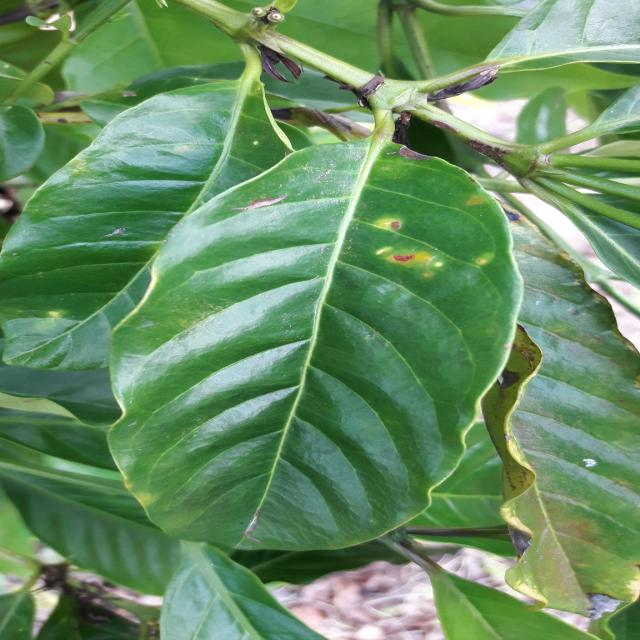Enfermedad-Roya: (106, 140, 524, 555)
